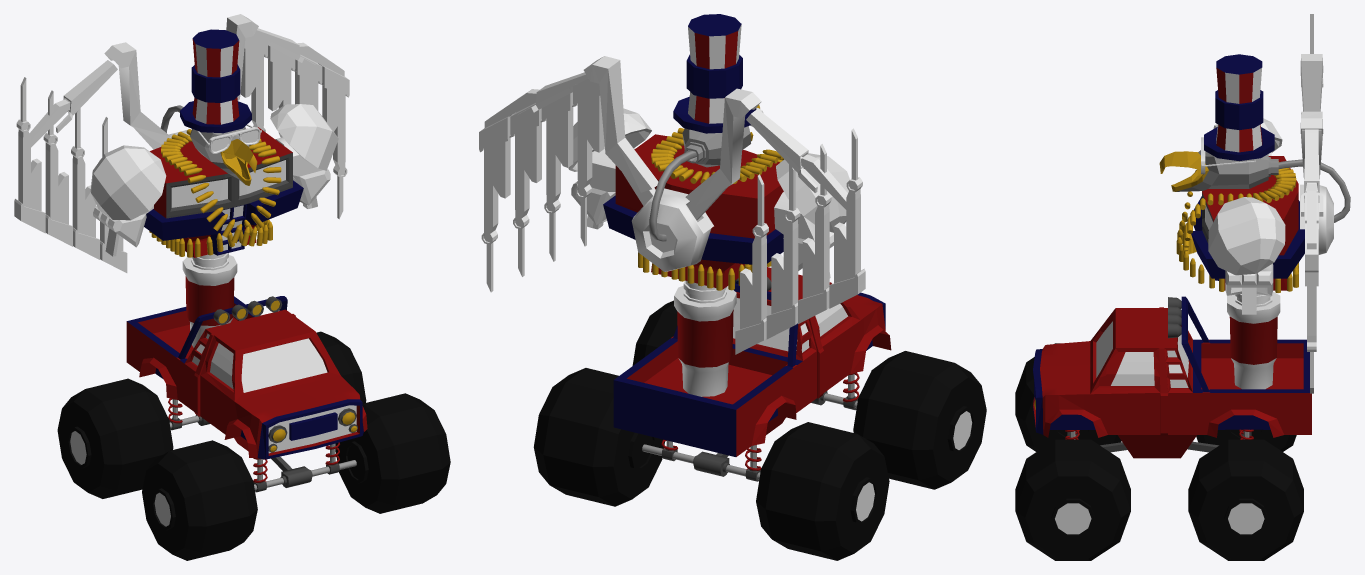
File: Robot Usa.FBX
3 views of the same model, side by side, from view 1: azimuth 30°, elevation 25°; view 2: azimuth 150°, elevation 25°; view 3: azimuth 270°, elevation 25° (orthographic). The views are drawn at different scales.
Visible parts, largest first — view 1: FrontWheels.001, Cylinder059, Box007, Sphere003, Alas001, Alas, Parte de Arriba, Cylinder145, Cylinder065, Parte de Abajo, Plane003, Box008 (+1 smaller); view 2: FrontWheels.001, Cylinder059, Alas001, Alas, Parte de Arriba, Box007, Cylinder145, Cylinder065, Cylinder063, Sphere003, Parte de Abajo, Plane003 (+2 smaller); view 3: Cylinder059, FrontWheels.001, Sphere003, Cylinder145, Box007, Cylinder065, Plane003, Parte de Arriba, Alas, Cylinder063, Parte de Abajo.
Boxes of the visible parts, x1=… form: FrontWheels.001: x1=57, y1=331, x2=450, y2=560; Cylinder059: x1=126, y1=296, x2=367, y2=459; Box007: x1=144, y1=127, x2=303, y2=257; Sphere003: x1=90, y1=104, x2=338, y2=220; Alas001: x1=14, y1=77, x2=127, y2=272; Alas: x1=240, y1=33, x2=349, y2=219; Parte de Arriba: x1=29, y1=14, x2=344, y2=147; Cylinder145: x1=180, y1=29, x2=251, y2=133; Cylinder065: x1=182, y1=255, x2=237, y2=347; Parte de Abajo: x1=168, y1=398, x2=356, y2=492; Plane003: x1=160, y1=105, x2=257, y2=185; Box008: x1=93, y1=205, x2=153, y2=256; FrontWheels.001: x1=533, y1=300, x2=986, y2=560; Cylinder059: x1=613, y1=267, x2=891, y2=456; Alas001: x1=735, y1=128, x2=865, y2=354; Alas: x1=479, y1=78, x2=604, y2=292; Parte de Arriba: x1=484, y1=56, x2=854, y2=217; Box007: x1=603, y1=134, x2=783, y2=289; Cylinder145: x1=673, y1=14, x2=756, y2=133; Cylinder065: x1=674, y1=285, x2=736, y2=396; Cylinder063: x1=622, y1=172, x2=727, y2=271; Sphere003: x1=568, y1=108, x2=849, y2=232; Parte de Abajo: x1=642, y1=372, x2=859, y2=481; Plane003: x1=649, y1=105, x2=759, y2=241; Cylinder059: x1=1033, y1=296, x2=1311, y2=458; FrontWheels.001: x1=1015, y1=343, x2=1303, y2=560; Sphere003: x1=1208, y1=118, x2=1285, y2=314; Cylinder145: x1=1204, y1=54, x2=1274, y2=161; Box007: x1=1191, y1=156, x2=1304, y2=290; Cylinder065: x1=1227, y1=291, x2=1280, y2=389; Plane003: x1=1159, y1=150, x2=1350, y2=222; Parte de Arriba: x1=1300, y1=54, x2=1323, y2=249; Alas: x1=1305, y1=129, x2=1318, y2=393; Cylinder063: x1=1300, y1=184, x2=1333, y2=254; Parte de Abajo: x1=1065, y1=429, x2=1253, y2=452.
Bounding box in the file's own units: 200 × 248 × 172.
